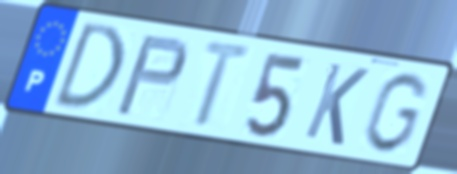5: (240, 47, 313, 140)
D: (48, 19, 126, 112)
G: (359, 70, 431, 156)
K: (300, 59, 373, 150)
P: (112, 33, 192, 118)
T: (190, 37, 258, 131)
